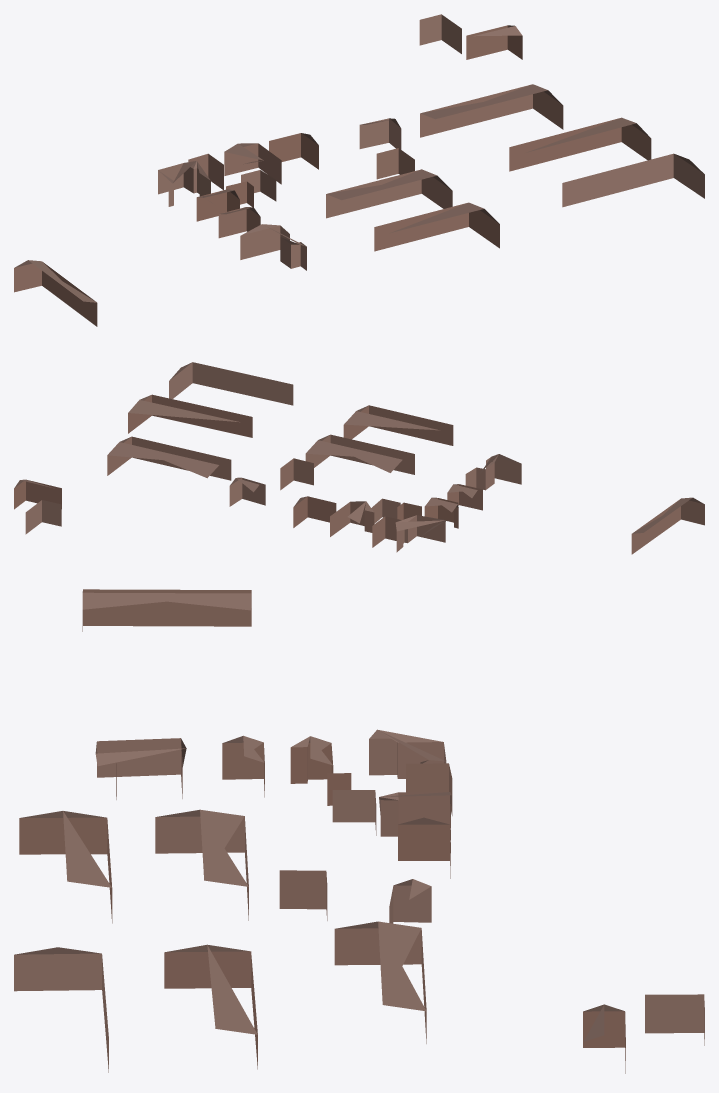
The model's file is c_1642_17834_buildings_residential.glb.
3 views of the same model, one above another, from view 1: azimuth 30°, elevation 25°; view 2: azimuth 150°, elevation 25°; view 3: azimuth 270°, elevation 25° (orthographic). The views are drawn at different scales.
Parts seen in each view (by area): view 1: geometry_0; view 2: geometry_0; view 3: geometry_0.
Part boxes in pixels (x1=…): geometry_0: x1=14, y1=14, x2=704, y2=326; geometry_0: x1=14, y1=362, x2=704, y2=554; geometry_0: x1=14, y1=589, x2=704, y2=1073.
Size of the model in its own units: 239 by 10.68 by 154.
